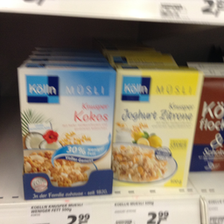cereal: (17, 68, 115, 187), (117, 64, 204, 186)
